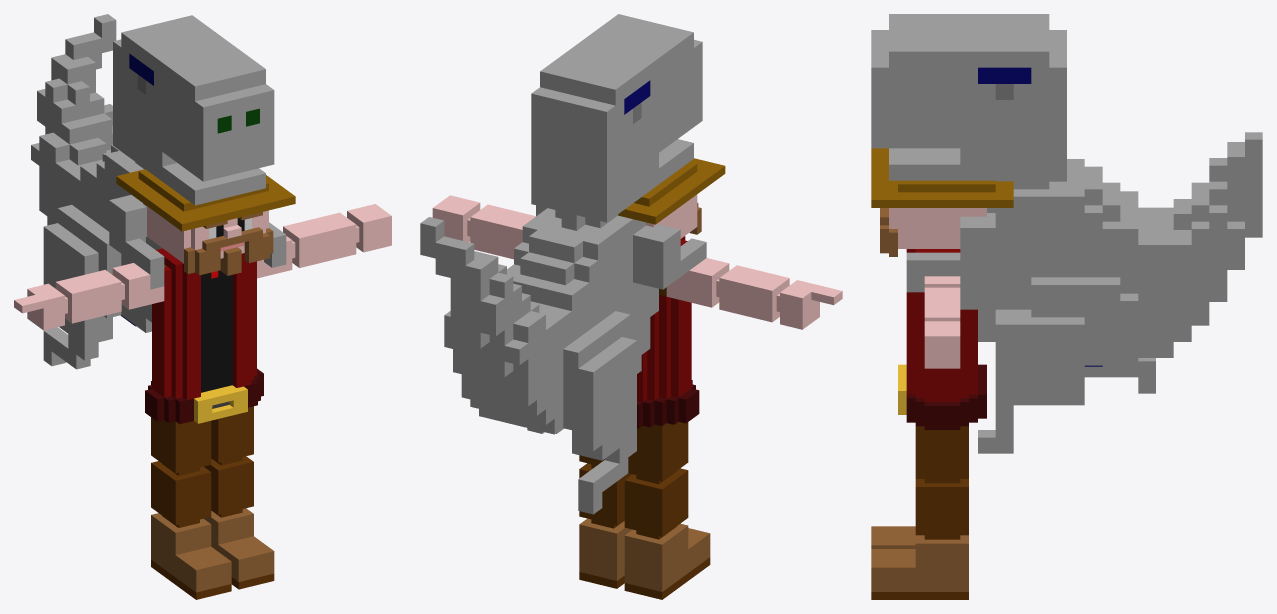
Rendered from DinofauroGreen.obj.
3 renders of one model, left to right at view 1: azimuth 30°, elevation 25°; view 2: azimuth 150°, elevation 25°; view 3: azimuth 270°, elevation 25°, orthographic. The views are drawn at different scales.
Bounding box in the file's own units: 5.2 × 6.8 × 4.4.
Materials: 1 (1 with a texture image).
